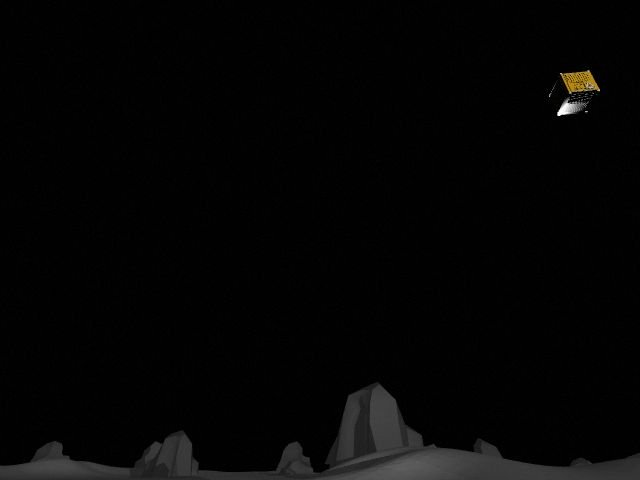cubesat: (543, 66, 603, 120)
